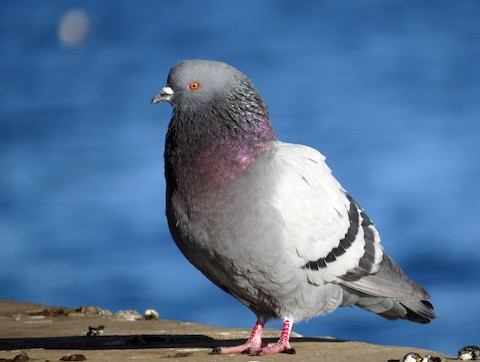pigeon: (148, 54, 443, 358)
